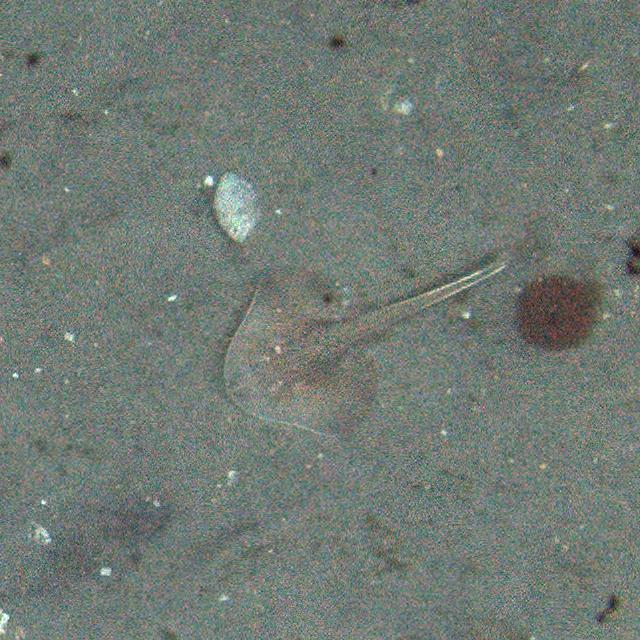skate: (221, 262, 510, 432)
